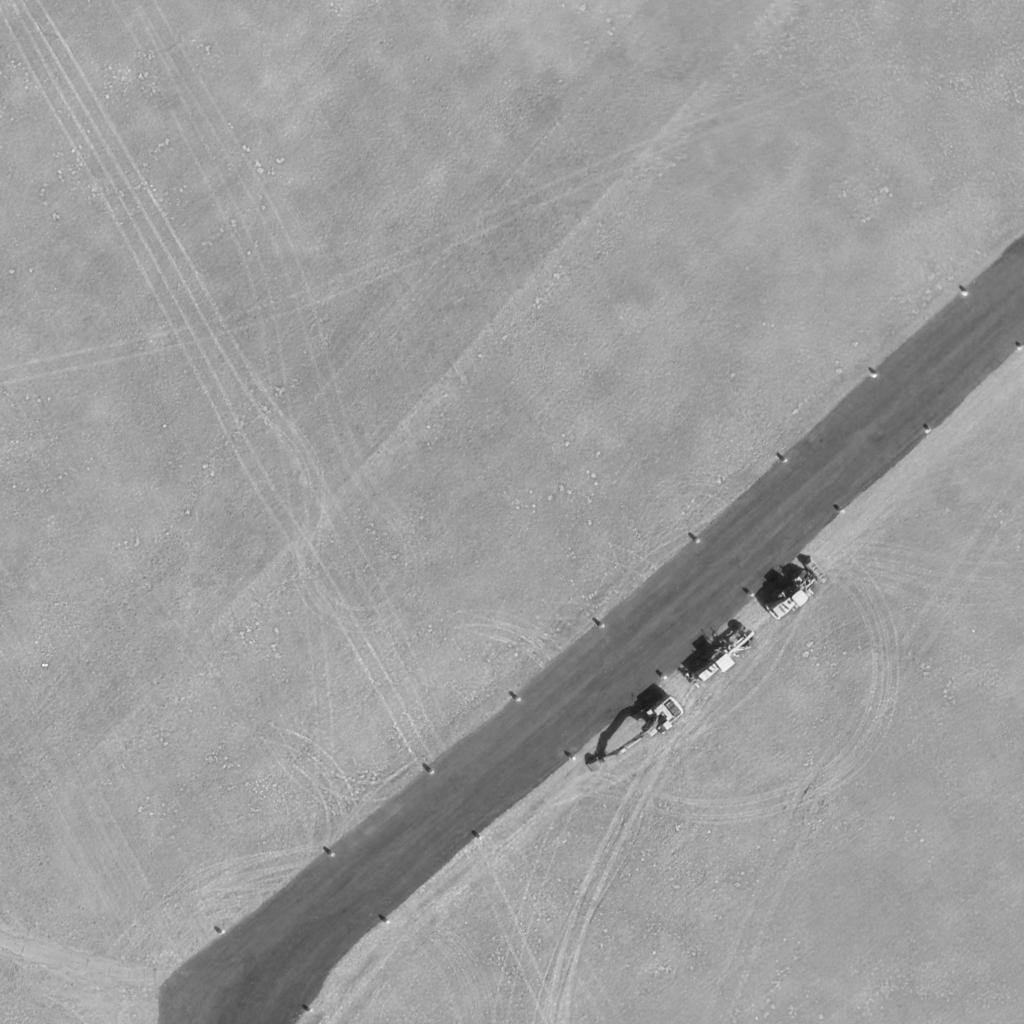vehicle: (582, 691, 684, 785), (683, 617, 761, 693), (759, 552, 833, 632)
